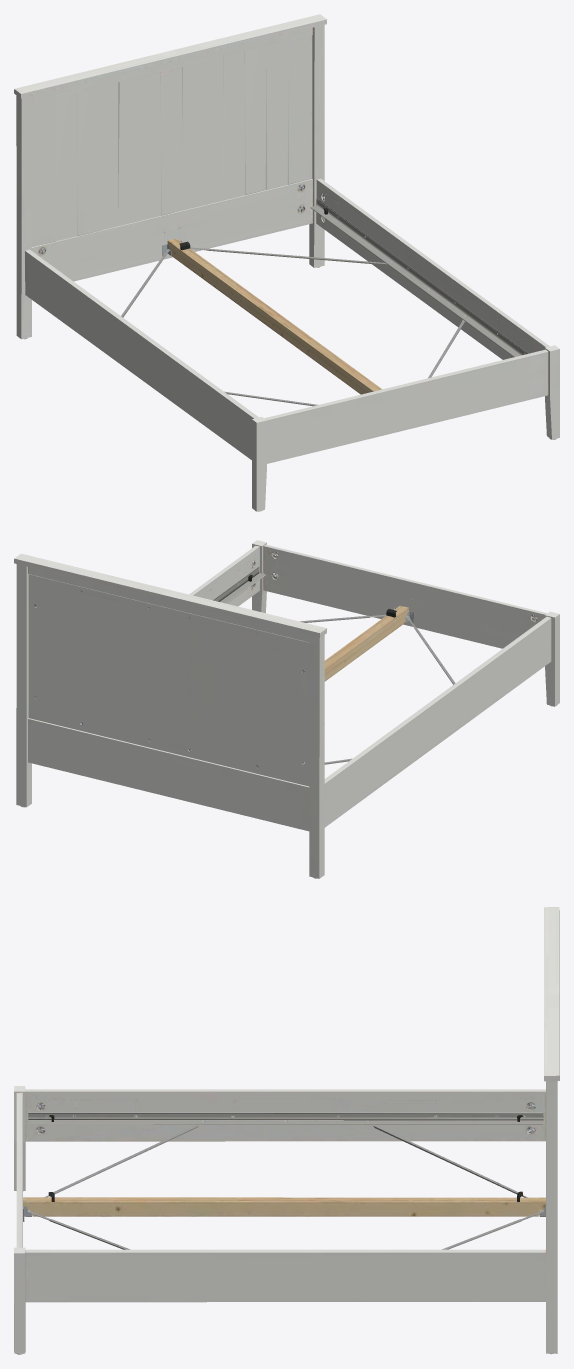
3 views of the same model, one above another, from view 1: azimuth 30°, elevation 25°; view 2: azimuth 150°, elevation 25°; view 3: azimuth 270°, elevation 25° (orthographic). The views are drawn at different scales.
Parts seen in each view (by area): view 1: ASY_ART_20608097_S01_NV01; view 2: ASY_ART_20608097_S01_NV01; view 3: ASY_ART_20608097_S01_NV01.
Boxes of the visible parts, left/top/right/bottom form: ASY_ART_20608097_S01_NV01: left=14, top=14, right=559, bottom=511; ASY_ART_20608097_S01_NV01: left=14, top=540, right=559, bottom=878; ASY_ART_20608097_S01_NV01: left=14, top=907, right=559, bottom=1354.
Size of the model in its own units: 1.45 by 1.12 by 1.98.
1 material, 1 textured.
